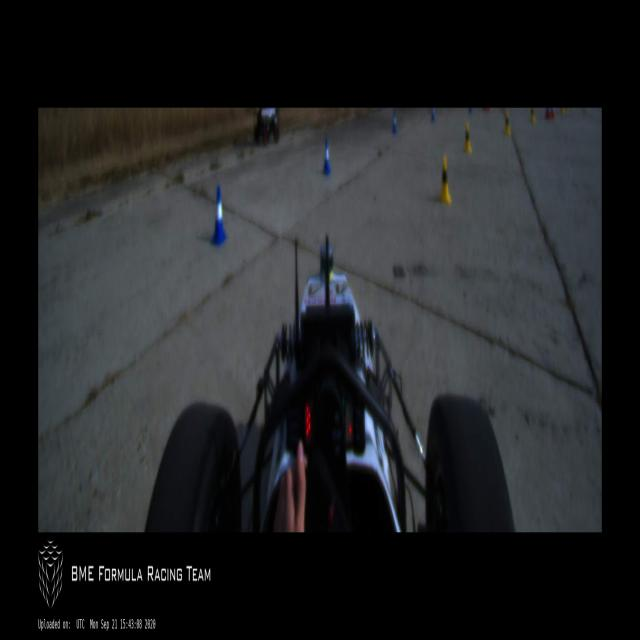blue_cone: (211, 186, 227, 244), (323, 138, 330, 174), (392, 111, 397, 133), (431, 108, 435, 121)
yellow_cone: (439, 155, 452, 204), (464, 122, 472, 153), (504, 111, 511, 136), (529, 109, 536, 122)
